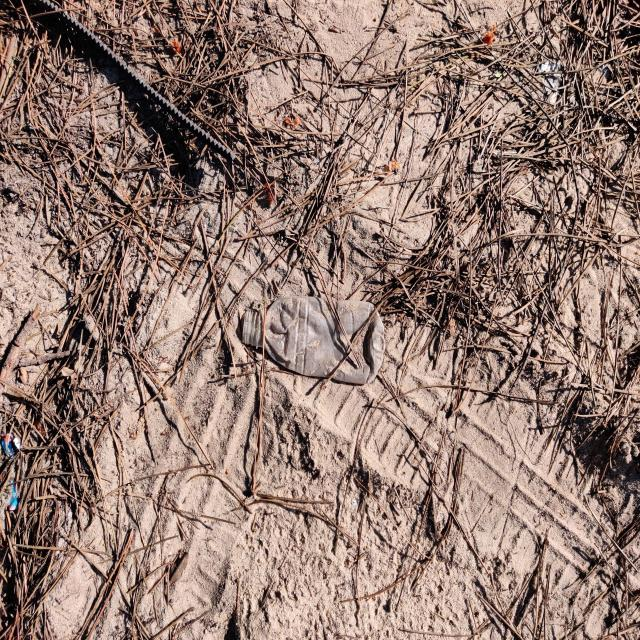litter: (232, 288, 382, 395)
